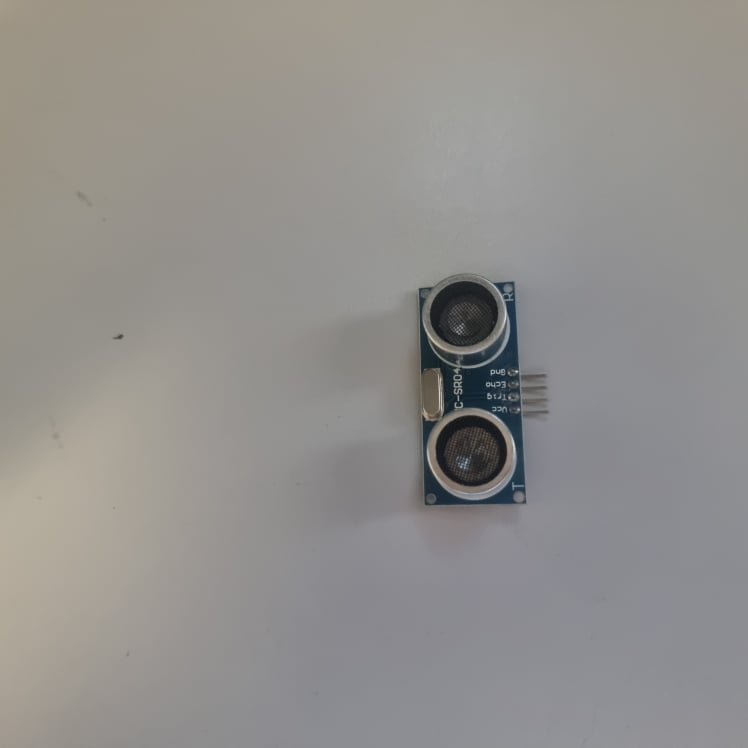SENSOR: (418, 276, 531, 505)
